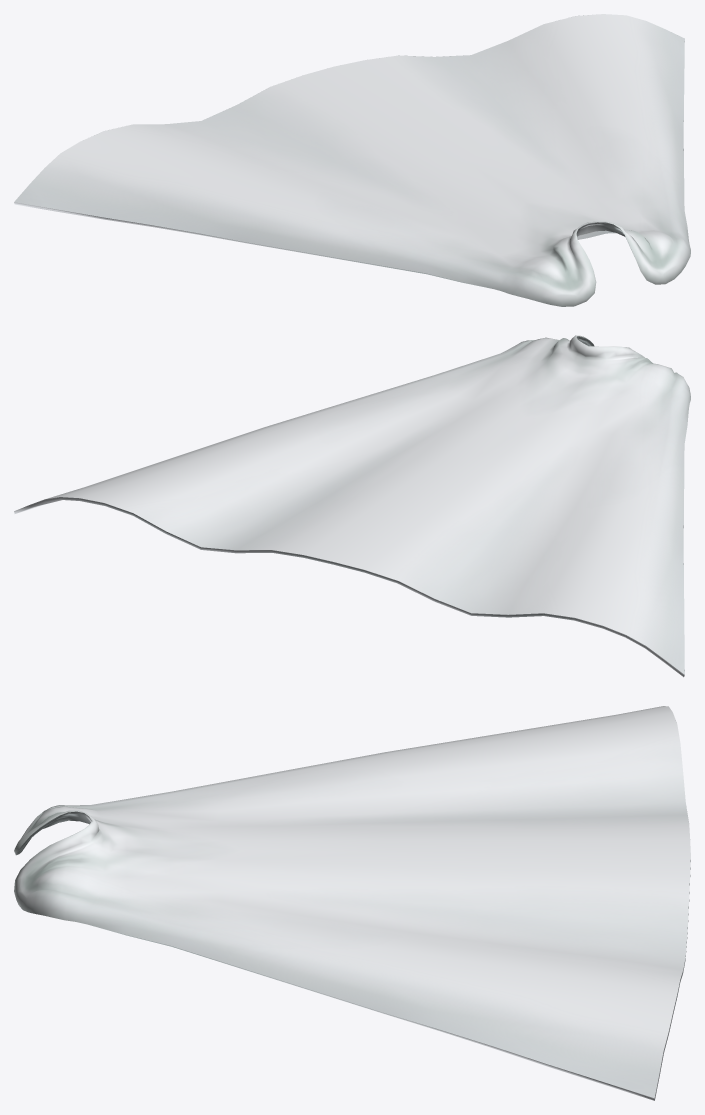
File: cape.fbx
The picture shows the model from 3 angles, top to bottom: view 1: azimuth 30°, elevation 25°; view 2: azimuth 150°, elevation 25°; view 3: azimuth 270°, elevation 25°; orthographic projection. The views are drawn at different scales.
Parts seen in each view (by area): view 1: Cape; view 2: Cape; view 3: Cape.
Part boxes in pixels (x1,y1,x2,y2): Cape: (14,14,690,306); Cape: (14,335,690,677); Cape: (14,706,690,1100).
Size of the model in its own units: 449 by 47.98 by 333.
